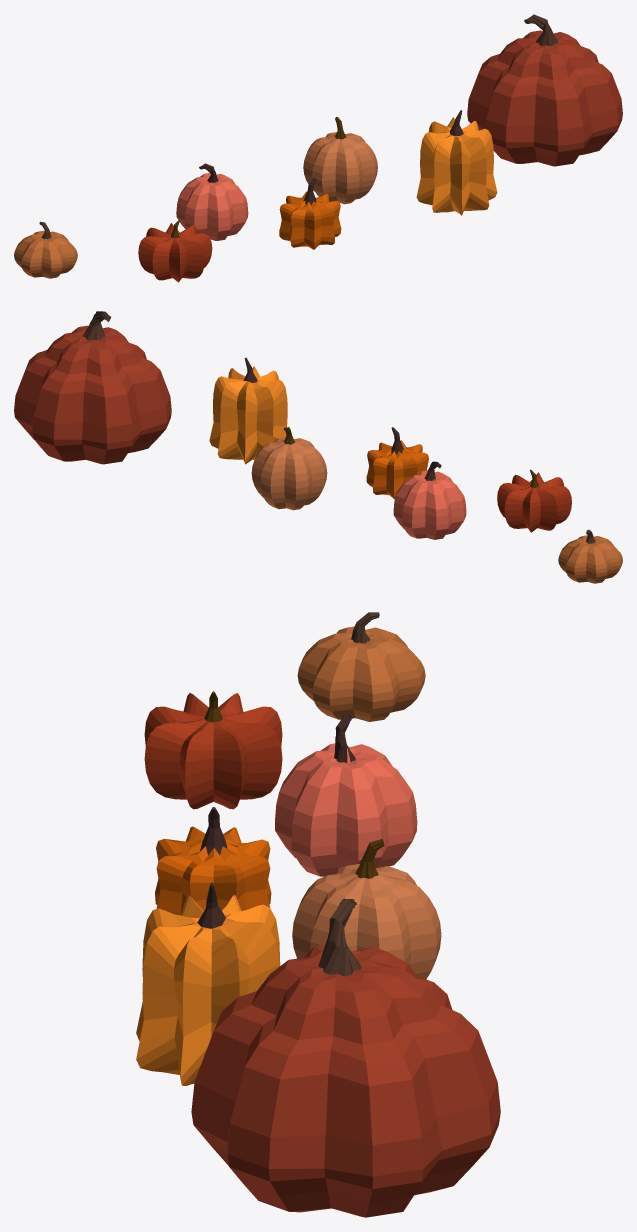
Rendered from JamPumpkins_texturedFINAL.fbx.
3 renders of one model, top to bottom at view 1: azimuth 30°, elevation 25°; view 2: azimuth 150°, elevation 25°; view 3: azimuth 270°, elevation 25°, orthographic. The views are drawn at different scales.
Visible parts, largest first — view 1: round4, sharp3, round3, round2, sharp1, sharp2, round1; view 2: round4, sharp3, round3, round2, sharp1, sharp2, round1; view 3: round4, sharp3, round2, sharp1, round3, round1, sharp2.
Part boxes in pixels (x1=…): round4: x1=467, y1=14, x2=622, y2=166; sharp3: x1=416, y1=110, x2=497, y2=215; round3: x1=303, y1=117, x2=377, y2=204; round2: x1=176, y1=163, x2=248, y2=240; sharp1: x1=138, y1=220, x2=212, y2=282; sharp2: x1=279, y1=178, x2=341, y2=249; round1: x1=14, y1=221, x2=77, y2=278; round4: x1=14, y1=311, x2=171, y2=464; sharp3: x1=209, y1=357, x2=287, y2=464; round3: x1=251, y1=427, x2=327, y2=510; round2: x1=393, y1=461, x2=466, y2=539; sharp1: x1=497, y1=469, x2=571, y2=532; sharp2: x1=366, y1=427, x2=428, y2=499; round1: x1=558, y1=529, x2=622, y2=583; round4: x1=191, y1=898, x2=500, y2=1217; sharp3: x1=136, y1=882, x2=280, y2=1085; round2: x1=275, y1=714, x2=417, y2=876; sharp1: x1=144, y1=691, x2=282, y2=809; round3: x1=292, y1=839, x2=441, y2=979; round1: x1=297, y1=612, x2=425, y2=721; sharp2: x1=155, y1=807, x2=271, y2=914.
Bounding box in the file's own units: 1823 × 417 × 489.
